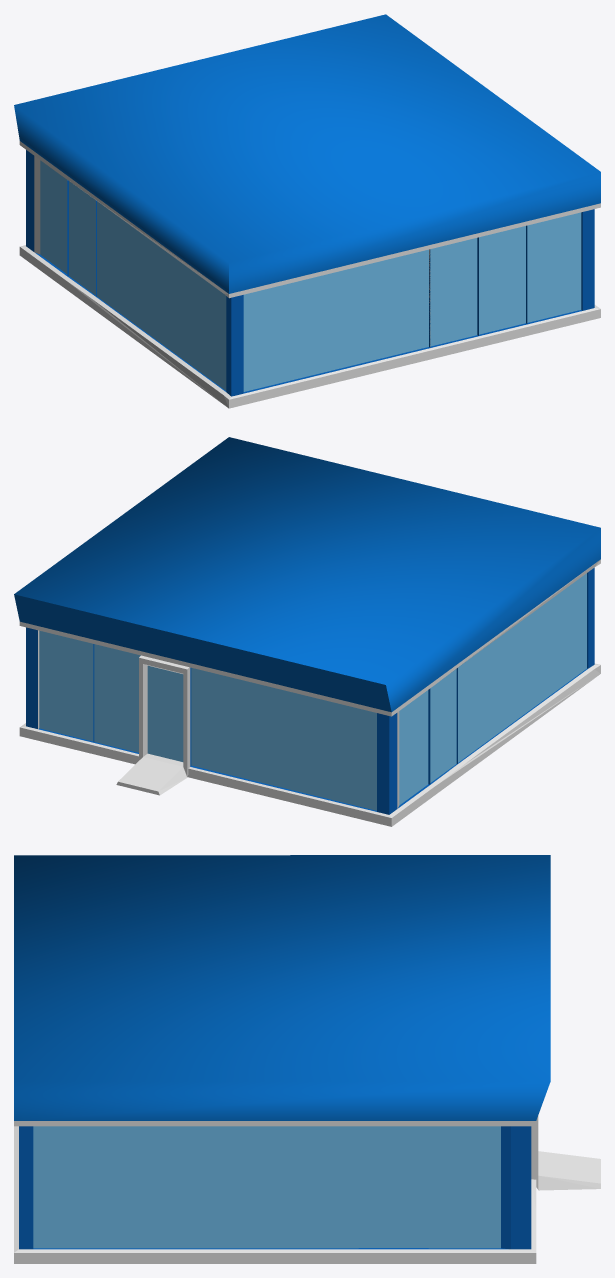
Rendered from Shop8x8x3Blue.fbx.
The picture shows the model from 3 angles, top to bottom: view 1: azimuth 30°, elevation 25°; view 2: azimuth 150°, elevation 25°; view 3: azimuth 270°, elevation 25°; orthographic projection. The views are drawn at different scales.
Parts seen in each view (by area): view 1: Shop.001; view 2: Shop.001; view 3: Shop.001.
Boxes of the visible parts, bbox=[...] form: Shop.001: bbox=[14, 14, 600, 408]; Shop.001: bbox=[14, 437, 600, 826]; Shop.001: bbox=[14, 855, 600, 1263].
Size of the model in its own units: 7.96 by 2.99 by 8.72.
Materials: 1 (1 with a texture image).
